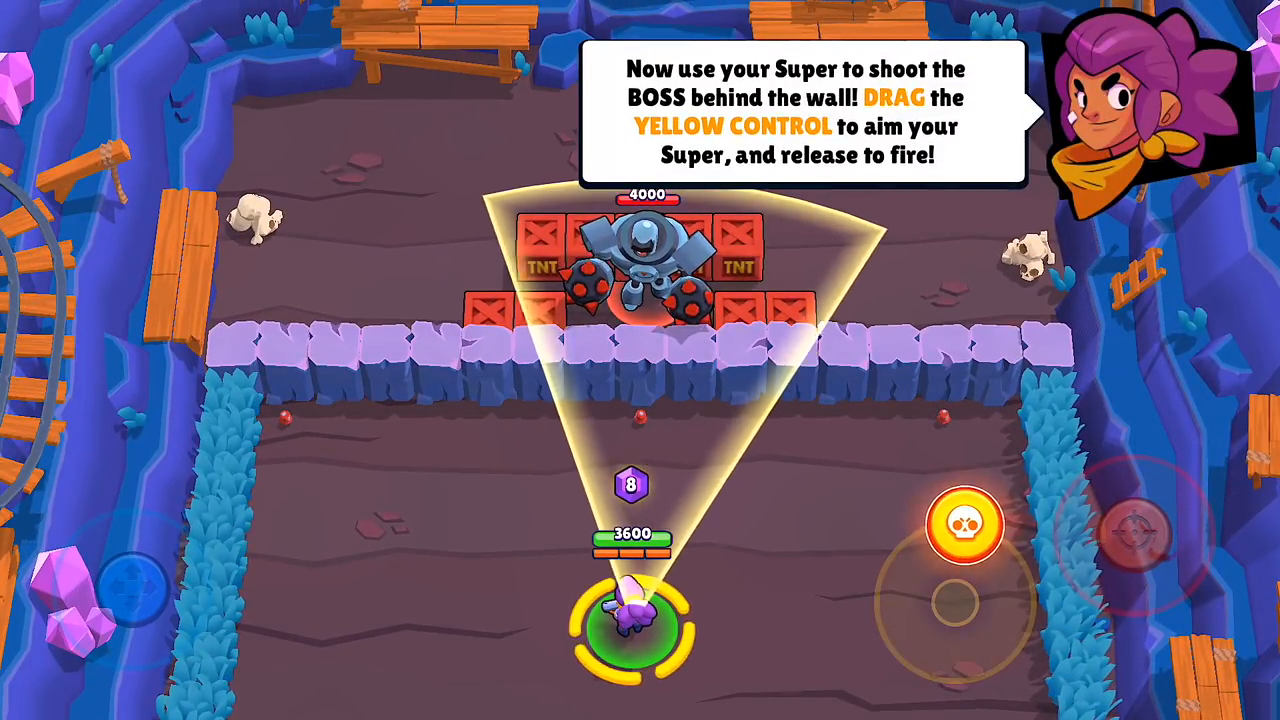move_stick: (96, 550, 171, 610)
red: (572, 180, 721, 326)
